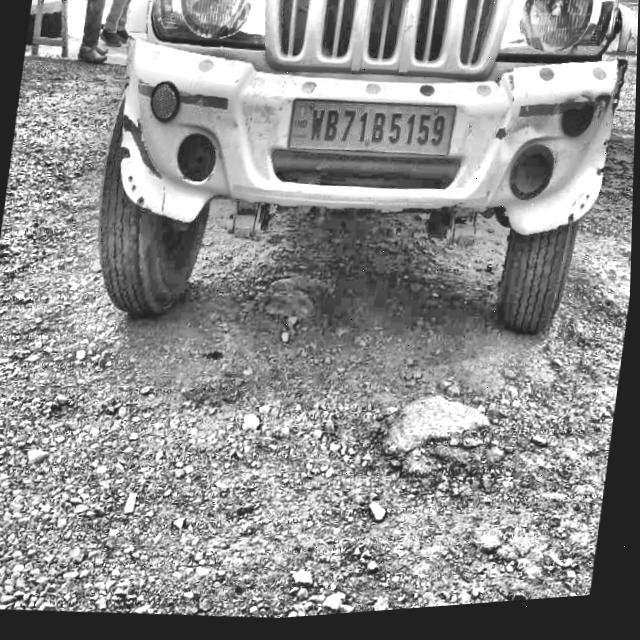light_vehicle: (93, 0, 625, 299)
